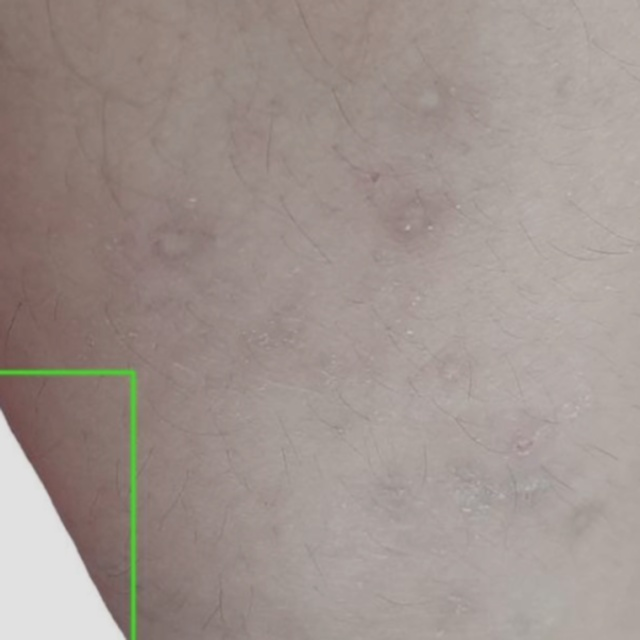Scabies: (0, 373, 133, 639)
